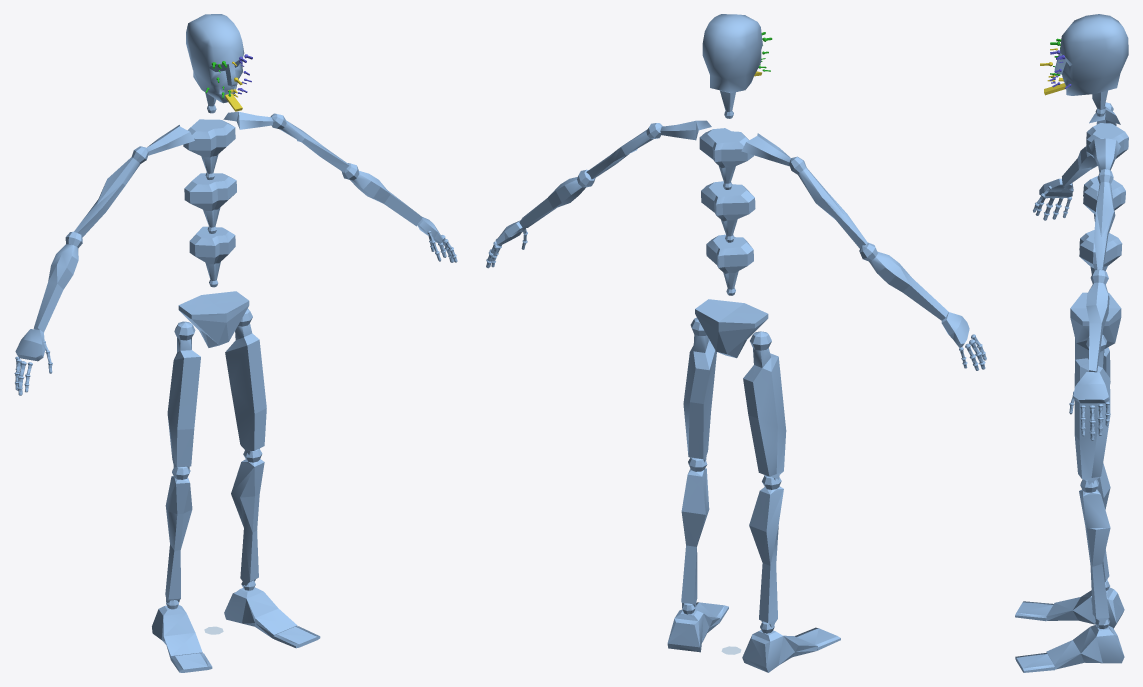
File: manmodel.dae
3 renders of one model, left to right at view 1: azimuth 30°, elevation 25°; view 2: azimuth 150°, elevation 25°; view 3: azimuth 270°, elevation 25°, orthographic. The views are drawn at different scales.
Visible parts, largest first — view 1: L_Thigh, Head, R_Thigh, L_Calf, Pelvis, R_Calf, L_Foot, R_Forearm, R_Foot, Spine1, Spine2, R_UpperArm (+5 smaller); view 2: R_Thigh, Head, L_Thigh, R_Calf, Pelvis, L_Calf, R_Foot, R_Forearm, Spine1, Spine2, Spine, L_Foot (+4 smaller); view 3: Head, L_Thigh, L_Calf, L_Foot, L_Forearm, R_Foot, L_UpperArm, Pelvis, Spine, L_Hand, Spine1, Spine2 (+9 smaller).
Boxes of the visible parts, x1=… form: L_Thigh: x1=225, y1=308, x2=266, y2=454; Head: x1=186, y1=14, x2=244, y2=103; R_Thigh: x1=167, y1=321, x2=200, y2=469; L_Calf: x1=231, y1=448, x2=264, y2=585; Pelvis: x1=178, y1=291, x2=249, y2=347; R_Calf: x1=165, y1=466, x2=192, y2=602; L_Foot: x1=224, y1=580, x2=297, y2=638; R_Forearm: x1=33, y1=231, x2=82, y2=332; R_Foot: x1=152, y1=600, x2=202, y2=659; Spine1: x1=184, y1=173, x2=236, y2=233; Spine2: x1=183, y1=119, x2=235, y2=179; R_UpperArm: x1=74, y1=146, x2=148, y2=237; R_Thigh: x1=743, y1=331, x2=786, y2=480; Head: x1=702, y1=14, x2=762, y2=92; L_Thigh: x1=683, y1=317, x2=716, y2=462; R_Calf: x1=749, y1=475, x2=783, y2=627; Pelvis: x1=695, y1=299, x2=768, y2=358; L_Calf: x1=681, y1=458, x2=709, y2=607; R_Foot: x1=742, y1=621, x2=817, y2=672; R_Forearm: x1=859, y1=242, x2=948, y2=320; Spine1: x1=701, y1=181, x2=755, y2=242; Spine2: x1=699, y1=128, x2=753, y2=189; Spine: x1=706, y1=234, x2=753, y2=295; L_Foot: x1=667, y1=603, x2=719, y2=652; Head: x1=1054, y1=14, x2=1128, y2=95; L_Thigh: x1=1074, y1=334, x2=1110, y2=484; L_Calf: x1=1079, y1=479, x2=1110, y2=624; L_Foot: x1=1046, y1=618, x2=1124, y2=669; L_Forearm: x1=1086, y1=269, x2=1109, y2=372; R_Foot: x1=1046, y1=579, x2=1124, y2=628; L_UpperArm: x1=1094, y1=169, x2=1115, y2=269; Pelvis: x1=1070, y1=292, x2=1121, y2=349; Spine: x1=1079, y1=230, x2=1122, y2=274; L_Hand: x1=1073, y1=372, x2=1109, y2=403; Spine1: x1=1083, y1=176, x2=1125, y2=221; Spine2: x1=1086, y1=123, x2=1128, y2=172.
Bounding box in the file's own units: 1.4 × 0.2977 × 1.79.
